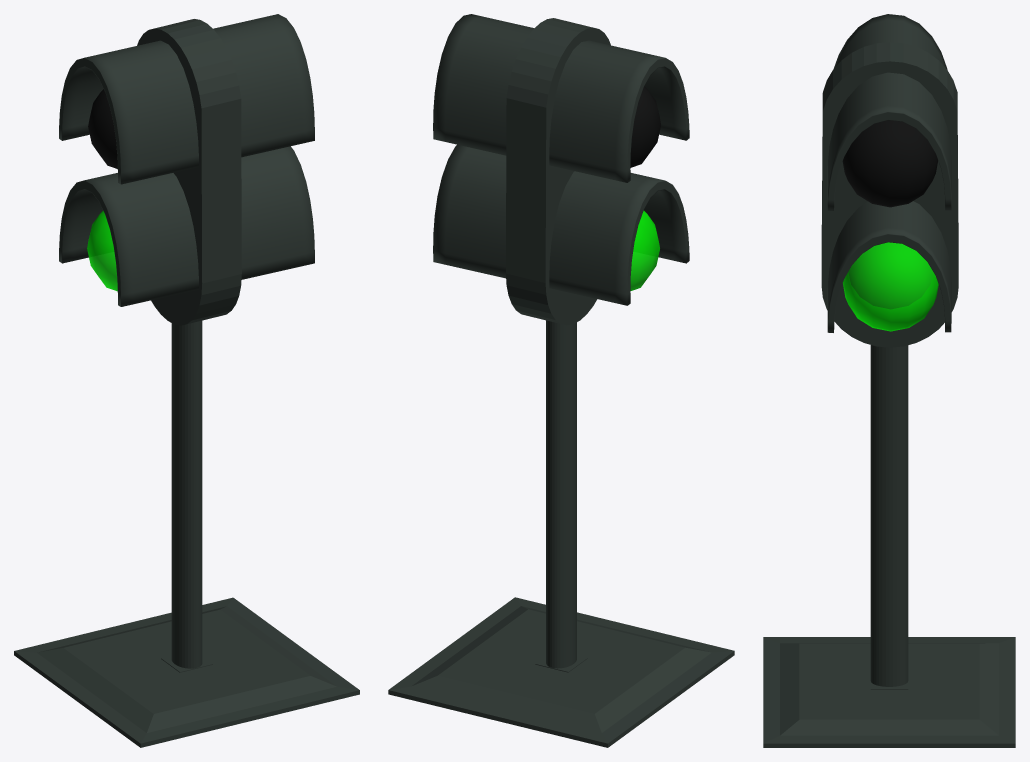
The model's file is TrafficLight_green_normals.obj.
3 renders of one model, left to right at view 1: azimuth 30°, elevation 25°; view 2: azimuth 150°, elevation 25°; view 3: azimuth 270°, elevation 25°, orthographic.
Visible parts, largest first — view 1: Cube, Cube.001_Cube.015, Cube.002_Cube.016, Cylinder.001, Cylinder, Cube.007_Cube.013, Cube.008_Cube.014; view 2: Cube, Cube.001_Cube.015, Cube.002_Cube.016, Cylinder.001, Cylinder, Cube.008_Cube.014, Cube.007_Cube.013; view 3: Cube, Cylinder.001, Cylinder, Cube.001_Cube.015, Cube.005_Cube.011, Cube.002_Cube.016, Cube.003_Cube.004.
Boxes of the visible parts, x1=… form: Cube: x1=14, y1=597, x2=359, y2=747; Cube.001_Cube.015: x1=59, y1=14, x2=314, y2=184; Cube.002_Cube.016: x1=59, y1=146, x2=314, y2=306; Cylinder.001: x1=137, y1=19, x2=241, y2=325; Cylinder: x1=171, y1=320, x2=202, y2=668; Cube.007_Cube.013: x1=87, y1=210, x2=117, y2=291; Cube.008_Cube.014: x1=88, y1=89, x2=117, y2=168; Cube: x1=388, y1=597, x2=734, y2=747; Cube.001_Cube.015: x1=433, y1=14, x2=689, y2=182; Cube.002_Cube.016: x1=433, y1=144, x2=689, y2=305; Cylinder.001: x1=506, y1=18, x2=610, y2=325; Cylinder: x1=546, y1=320, x2=576, y2=668; Cube.008_Cube.014: x1=630, y1=86, x2=660, y2=167; Cube.007_Cube.013: x1=630, y1=210, x2=659, y2=290; Cube: x1=763, y1=637, x2=1015, y2=747; Cylinder.001: x1=821, y1=42, x2=958, y2=347; Cylinder: x1=870, y1=345, x2=908, y2=686; Cube.001_Cube.015: x1=827, y1=14, x2=951, y2=210; Cube.005_Cube.011: x1=843, y1=242, x2=938, y2=331; Cube.002_Cube.016: x1=827, y1=201, x2=951, y2=332; Cube.003_Cube.004: x1=842, y1=120, x2=937, y2=207.
Size of the model in its own units: 0.25 by 0.7039 by 0.25.
